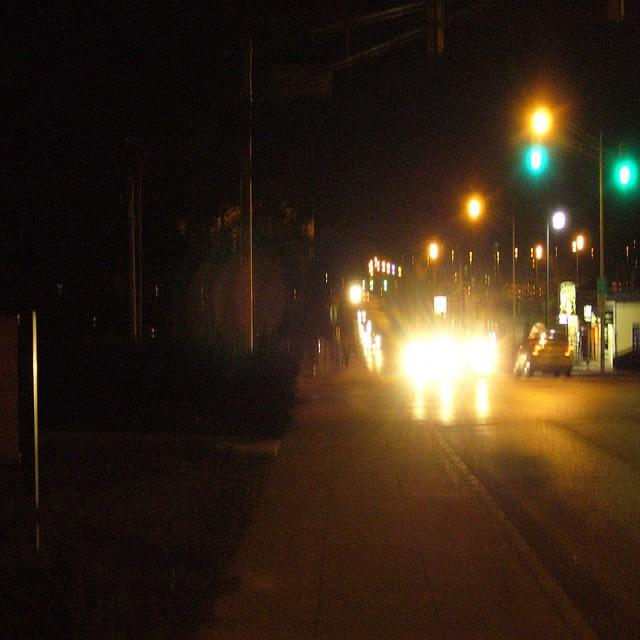car: (510, 328, 573, 379), (363, 327, 381, 349), (354, 307, 373, 321)
